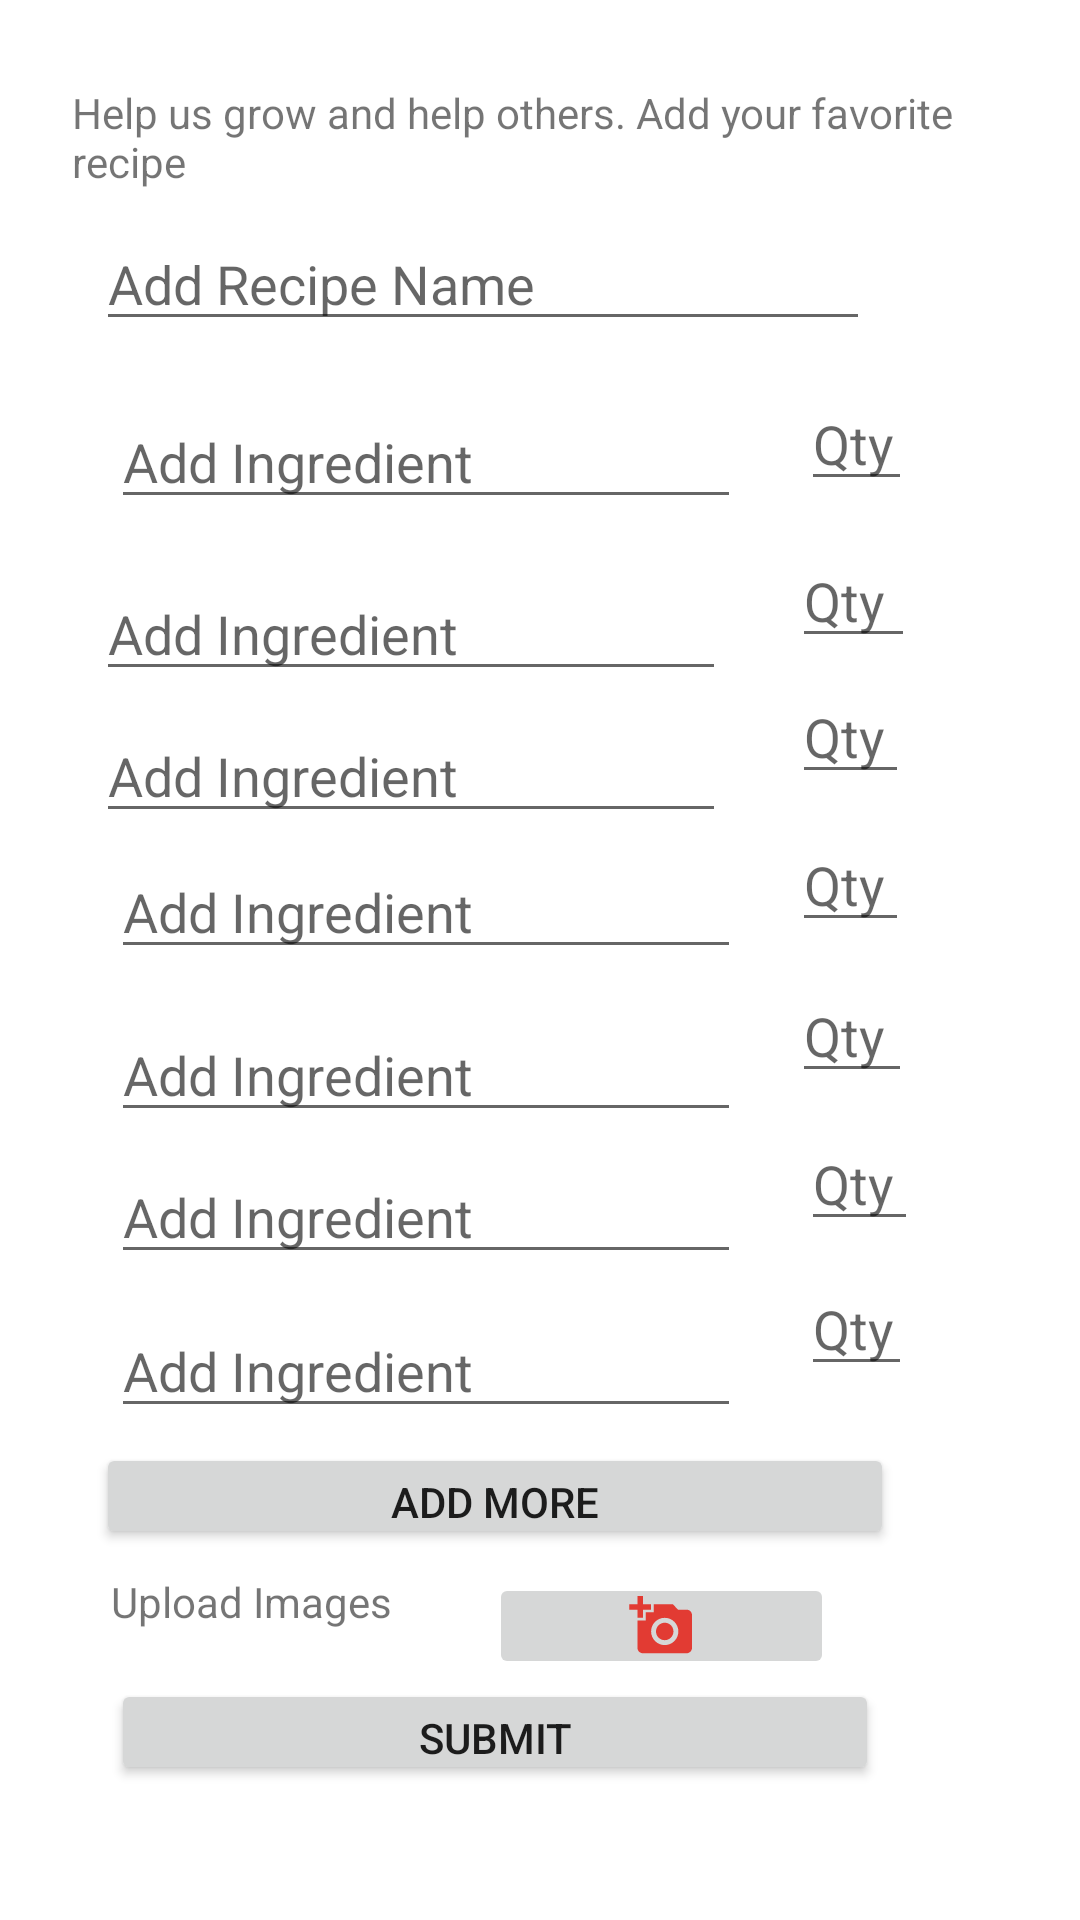

Named icons in this screenshot (1080×1920) and their centers, (x,y):
addphoto: (661,1626)
